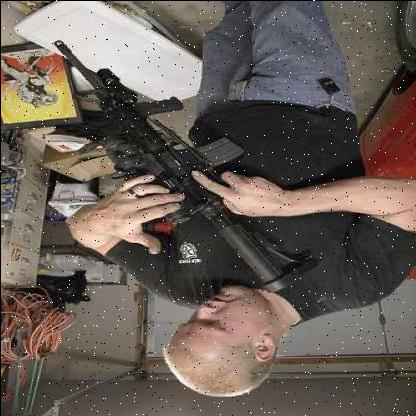rifle: (28, 27, 317, 300)
